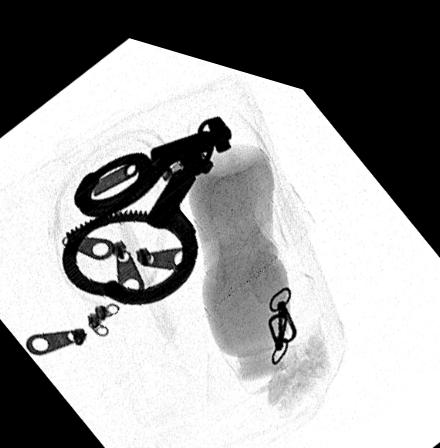HandCuffs: (59, 99, 233, 299)
